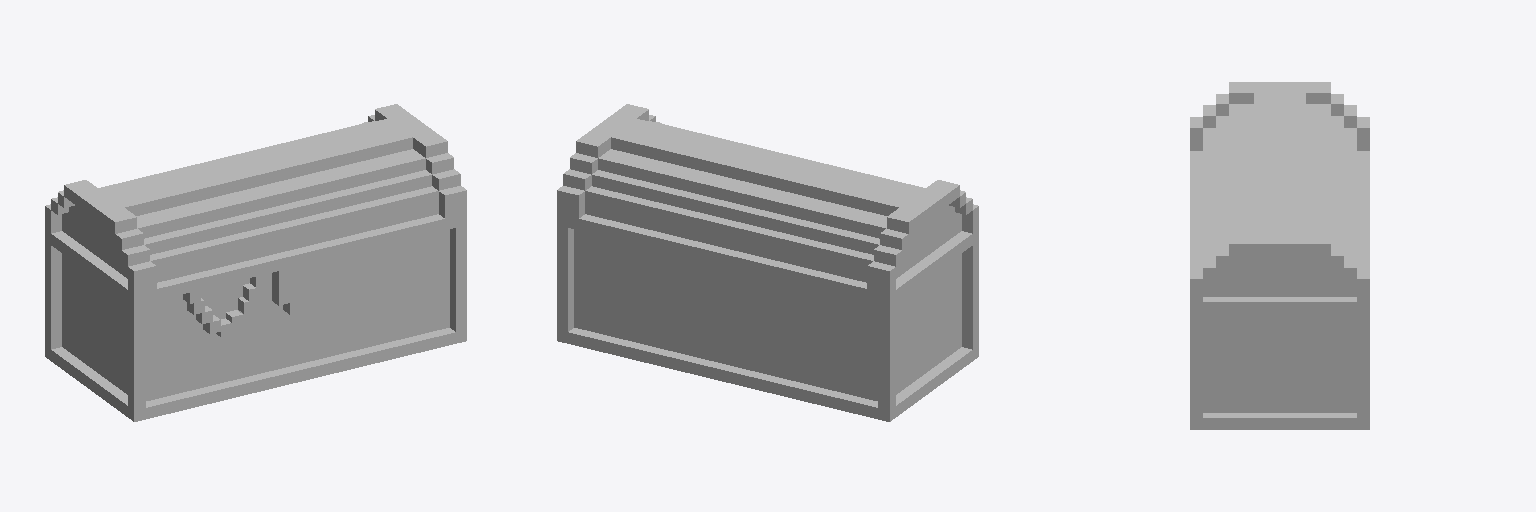
The model's file is 640_treasure_chest.obj.
The picture shows the model from 3 angles: view 1: azimuth 30°, elevation 25°; view 2: azimuth 150°, elevation 25°; view 3: azimuth 270°, elevation 25°; orthographic projection.
Visible parts, largest first — view 1: WoodMainChest, WoodLid4, WoodLid1, MetalBase, MetalLid, WoodLid3, WoodLid2, MetalLidArchL4, MetalCornerStrip2, MetalCornerStrip3, LockUpper, MetalCornerStrip1 (+3 smaller); view 2: WoodMainChest, WoodLid4, WoodLid1, MetalBase, MetalLid, WoodLid3, WoodLid2, MetalLidArchL4, MetalCornerStrip1, MetalCornerStrip4, MetalCornerStrip2, MetalLidArchR4 (+2 smaller); view 3: WoodMainChest, WoodLid4, WoodLid3, WoodLid1, MetalLid, WoodLid2, MetalBase, MetalLidArchR4, MetalLidArchL4, MetalCornerStrip3, MetalCornerStrip4.
Part boxes in pixels (bbox=[...]): WoodMainChest: bbox=[62, 229, 449, 400]; WoodLid4: bbox=[100, 119, 412, 215]; WoodLid1: bbox=[62, 186, 438, 282]; MetalBase: bbox=[45, 328, 466, 421]; MetalLid: bbox=[45, 214, 466, 305]; WoodLid3: bbox=[75, 121, 425, 238]; WoodLid2: bbox=[69, 170, 431, 254]; MetalLidArchL4: bbox=[64, 180, 136, 233]; MetalCornerStrip2: bbox=[128, 302, 145, 410]; MetalCornerStrip3: bbox=[450, 225, 466, 331]; LockUpper: bbox=[272, 260, 322, 305]; MetalCornerStrip1: bbox=[45, 241, 61, 349]; WoodMainChest: bbox=[574, 229, 961, 400]; WoodLid4: bbox=[611, 119, 923, 215]; WoodLid1: bbox=[585, 186, 961, 282]; MetalBase: bbox=[557, 328, 978, 421]; MetalLid: bbox=[557, 214, 978, 305]; WoodLid3: bbox=[598, 121, 948, 238]; WoodLid2: bbox=[592, 170, 954, 254]; MetalLidArchL4: bbox=[887, 180, 959, 233]; MetalCornerStrip1: bbox=[878, 302, 895, 410]; MetalCornerStrip4: bbox=[557, 225, 573, 331]; MetalCornerStrip2: bbox=[962, 241, 978, 349]; MetalLidArchR4: bbox=[576, 104, 648, 157]; WoodMainChest: bbox=[1203, 314, 1356, 412]; WoodLid4: bbox=[1254, 93, 1305, 232]; WoodLid3: bbox=[1229, 104, 1330, 261]; WoodLid1: bbox=[1203, 128, 1356, 296]; MetalLid: bbox=[1190, 151, 1369, 313]; WoodLid2: bbox=[1216, 116, 1343, 273]; MetalBase: bbox=[1190, 413, 1369, 429]; MetalLidArchR4: bbox=[1229, 233, 1330, 255]; MetalLidArchL4: bbox=[1229, 82, 1330, 103]; MetalCornerStrip3: bbox=[1190, 314, 1202, 417]; MetalCornerStrip4: bbox=[1357, 314, 1369, 417].
Size of the model in its own units: 0.4688 by 0.25 by 0.2188.